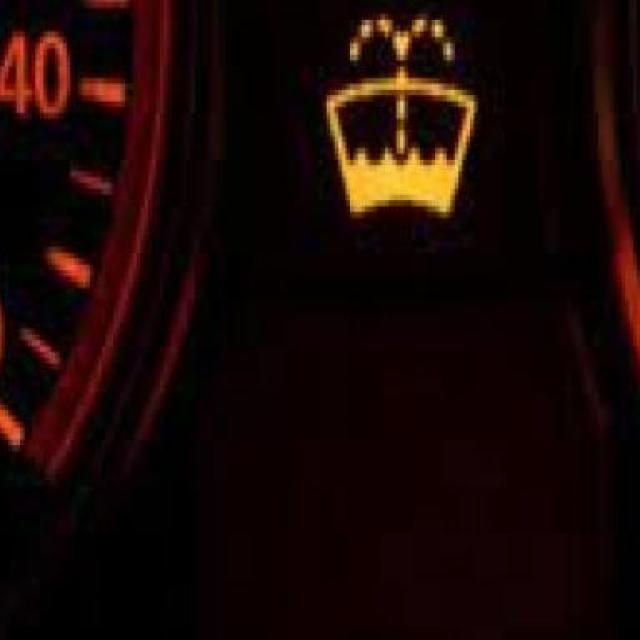Washer Fluid: (323, 18, 478, 218)
